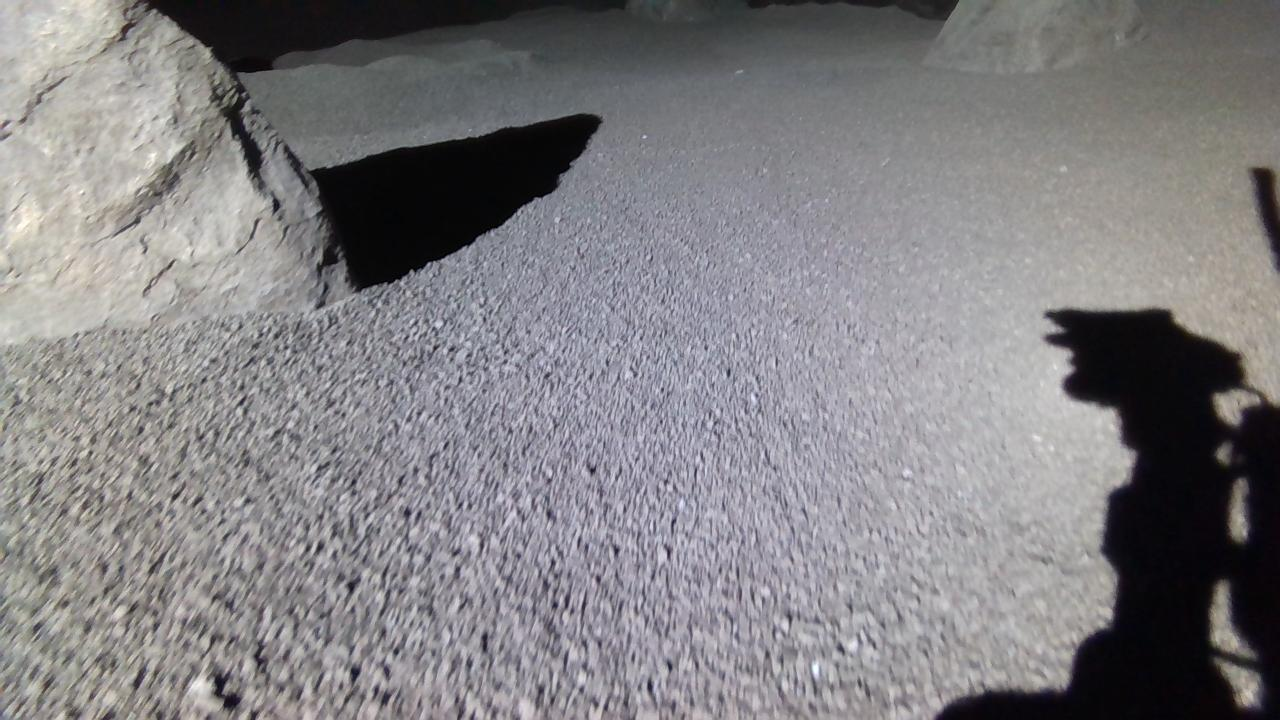rock: (0, 2, 349, 344), (924, 0, 1149, 72), (625, 0, 749, 20)
